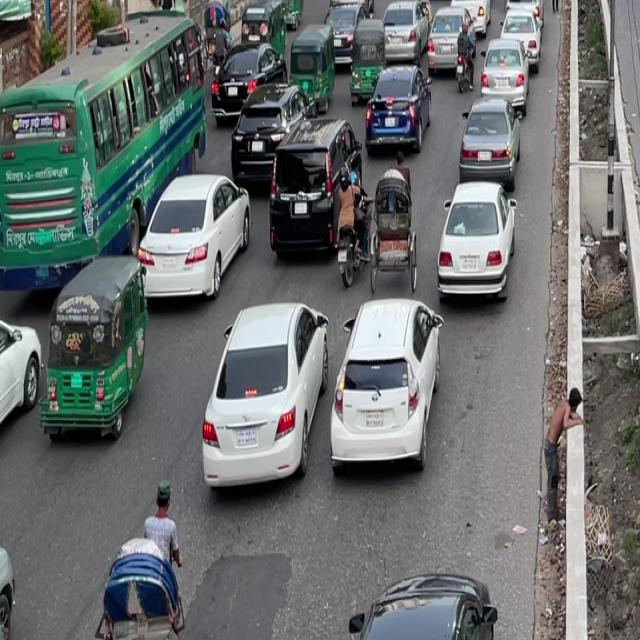bus: (0, 2, 210, 274)
car: (186, 282, 341, 510), (319, 285, 450, 488), (123, 154, 257, 321), (264, 111, 363, 275), (429, 168, 522, 319), (0, 300, 49, 472), (362, 58, 431, 162), (454, 89, 522, 193), (226, 99, 288, 193), (209, 49, 280, 130), (477, 34, 532, 117), (375, 0, 429, 69), (424, 8, 469, 88), (324, 0, 372, 68), (497, 0, 544, 65), (450, 0, 491, 42), (503, 0, 544, 8)
rickshaw: (27, 247, 155, 449), (283, 23, 336, 118), (348, 20, 387, 106), (425, 0, 455, 6)
